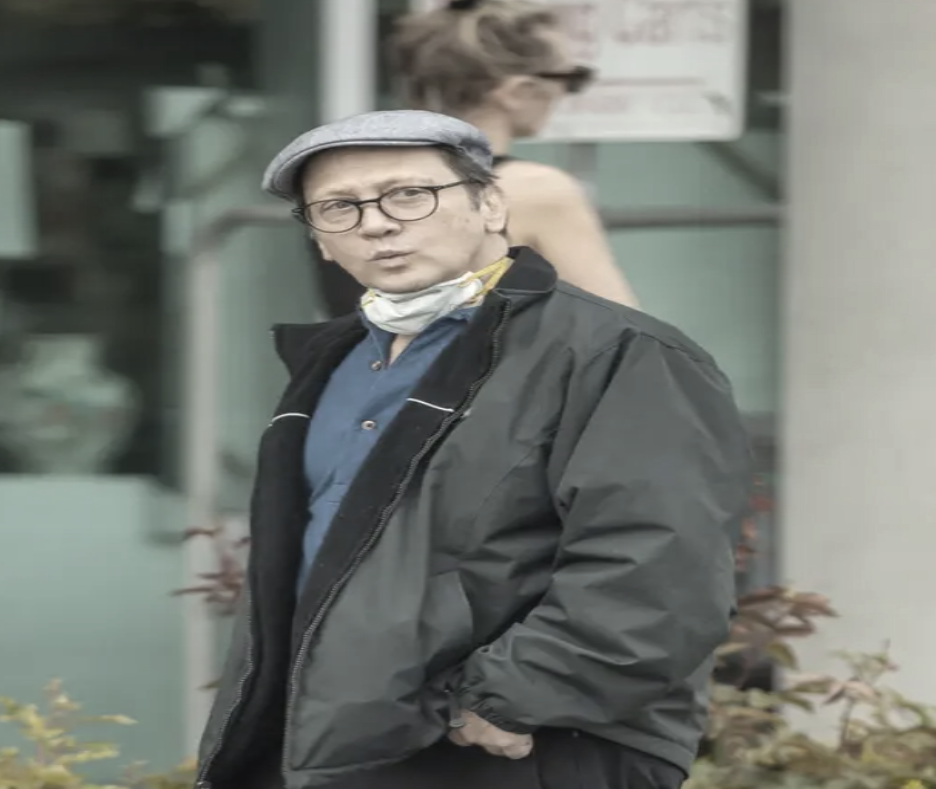mask_weared_incorrect: (259, 104, 535, 339)
